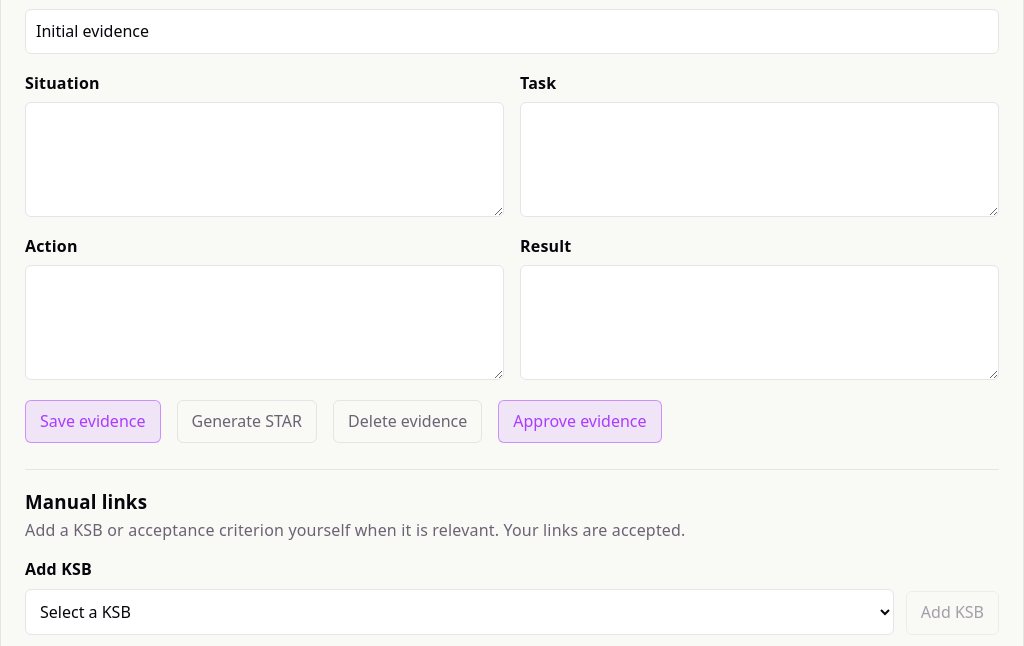
EvidenceEditor › lets the user add an accepted KSB link from the real catalogue
Select "K1 — Software development lifecycle." in the dropdown labelled "Add KSB" at coordinates (459, 612), box [25, 588, 894, 634]
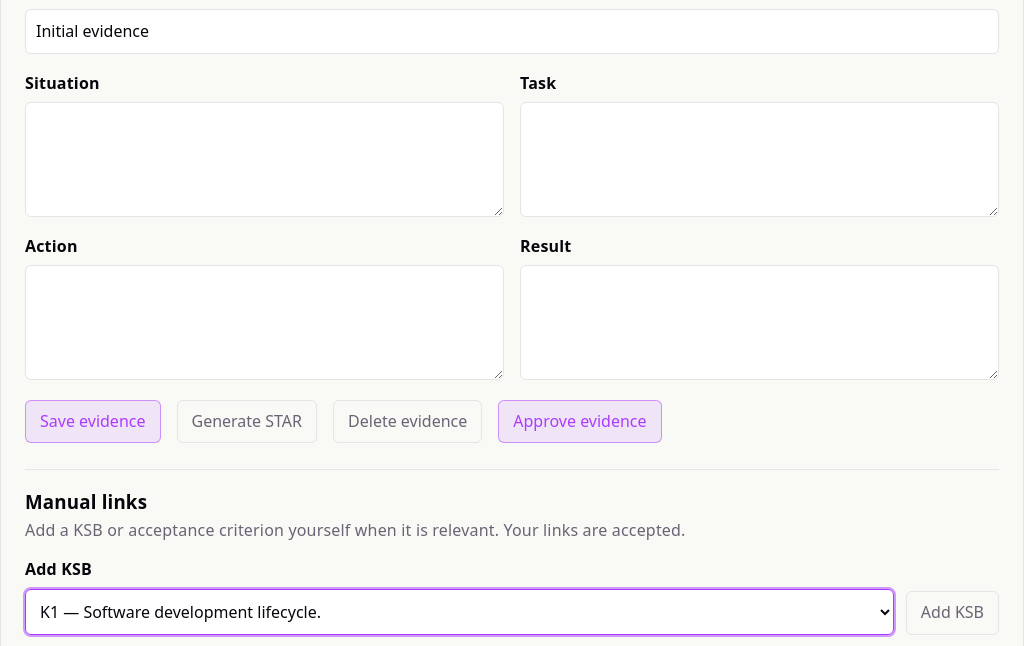
Click the button "Add KSB" at coordinates (952, 613), box [906, 591, 999, 634]
(page scrolled)
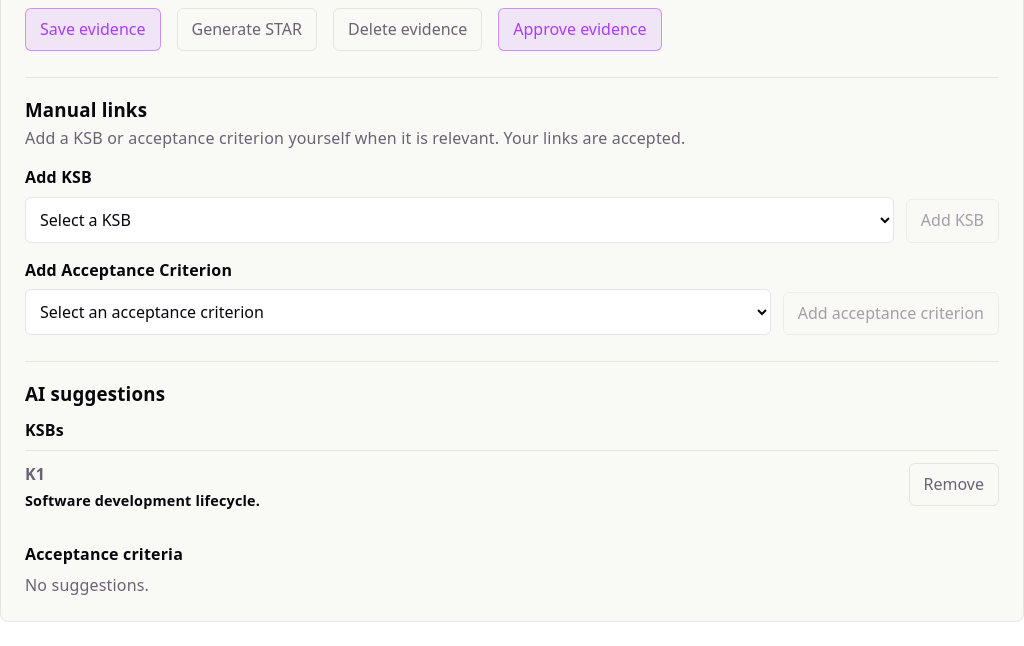
Expected: the button "Remove" is shown, [908, 463, 999, 506]
